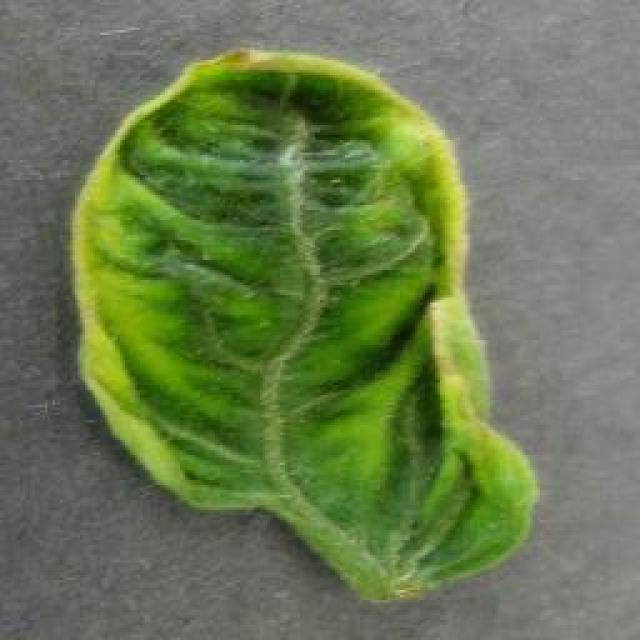Tom_Yellow_Leaf_Curl_Virus: (71, 61, 491, 528)
